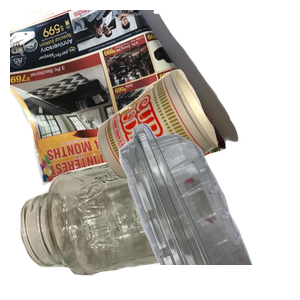glass: (18, 143, 227, 300)
paper: (10, 10, 241, 188)
plastic: (71, 120, 300, 300)
trash: (95, 67, 300, 238)
